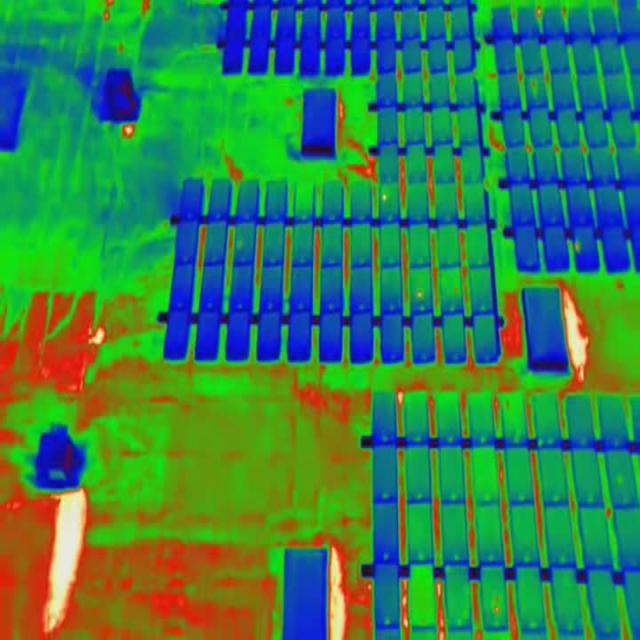Orange-Spots: (494, 604, 500, 616), (531, 80, 537, 92), (575, 242, 581, 252), (418, 290, 422, 299), (382, 194, 387, 201)
